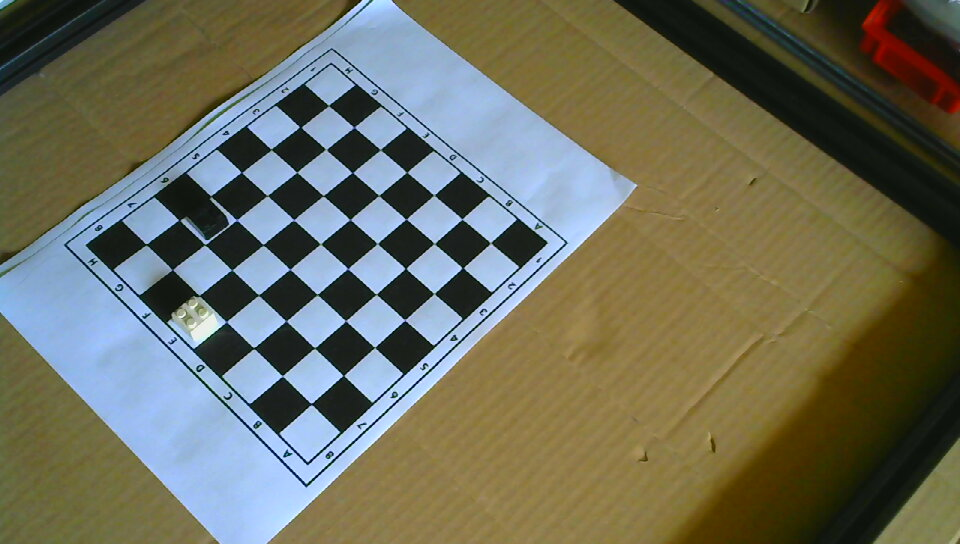bp: (183, 197, 230, 238)
wp: (170, 294, 220, 342)
